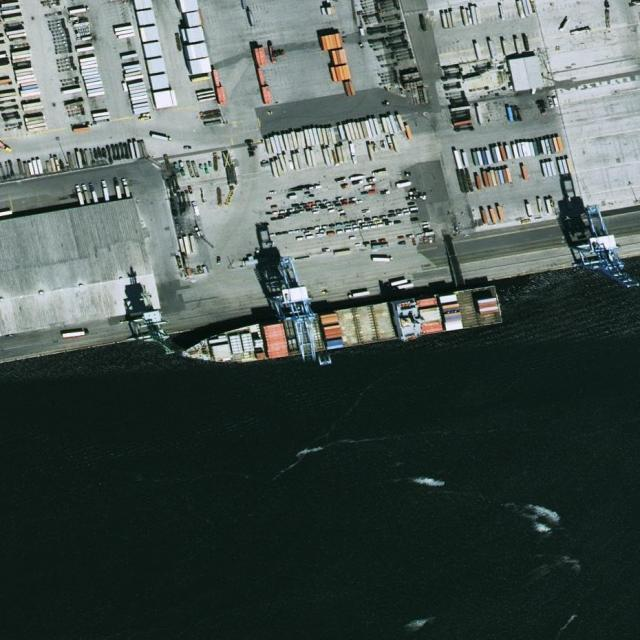Container Ship: (175, 282, 504, 374)
